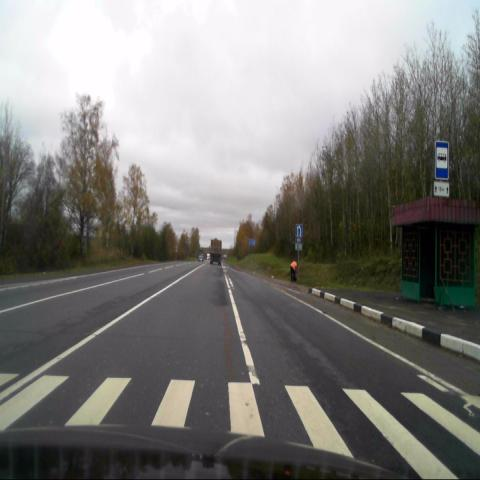8_2_1: (434, 182, 450, 197)
